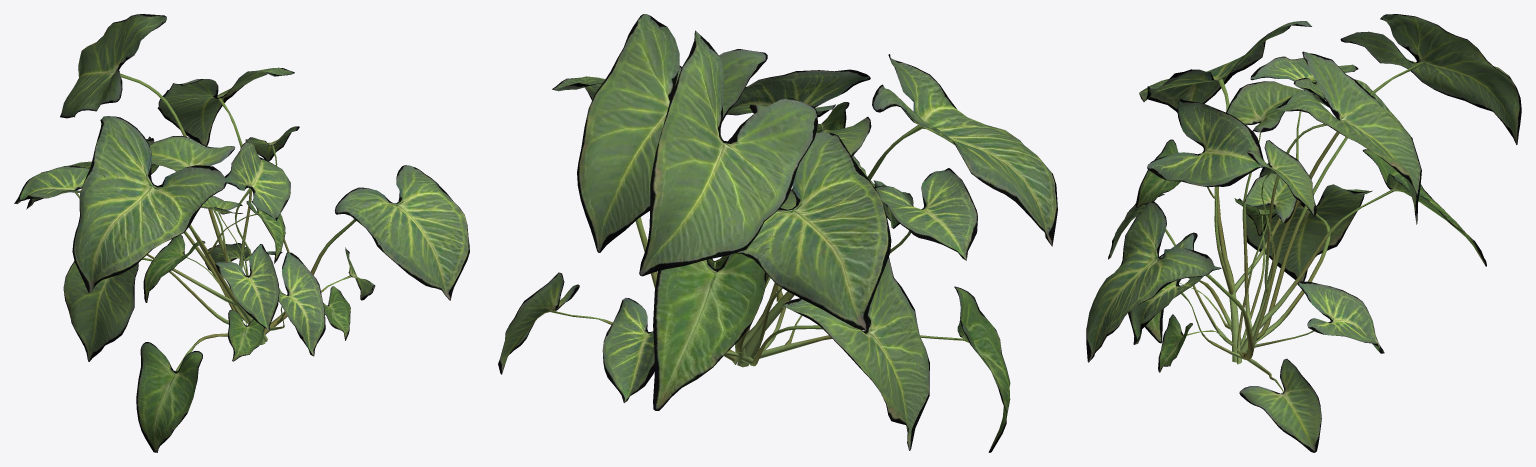
File: leaf-syngonium.glb
3 renders of one model, left to right at view 1: azimuth 30°, elevation 25°; view 2: azimuth 150°, elevation 25°; view 3: azimuth 270°, elevation 25°, orthographic. The views are drawn at different scales.
Visible parts, largest first — view 1: potted_plant_02_leaves; view 2: potted_plant_02_leaves; view 3: potted_plant_02_leaves.
Part boxes in pixels (bbox=[...]): potted_plant_02_leaves: bbox=[14, 14, 469, 452]; potted_plant_02_leaves: bbox=[498, 14, 1057, 452]; potted_plant_02_leaves: bbox=[1086, 14, 1521, 452].
Bounding box in the file's own units: 0.7009 × 0.6325 × 0.6432.
1 material, 1 textured.
